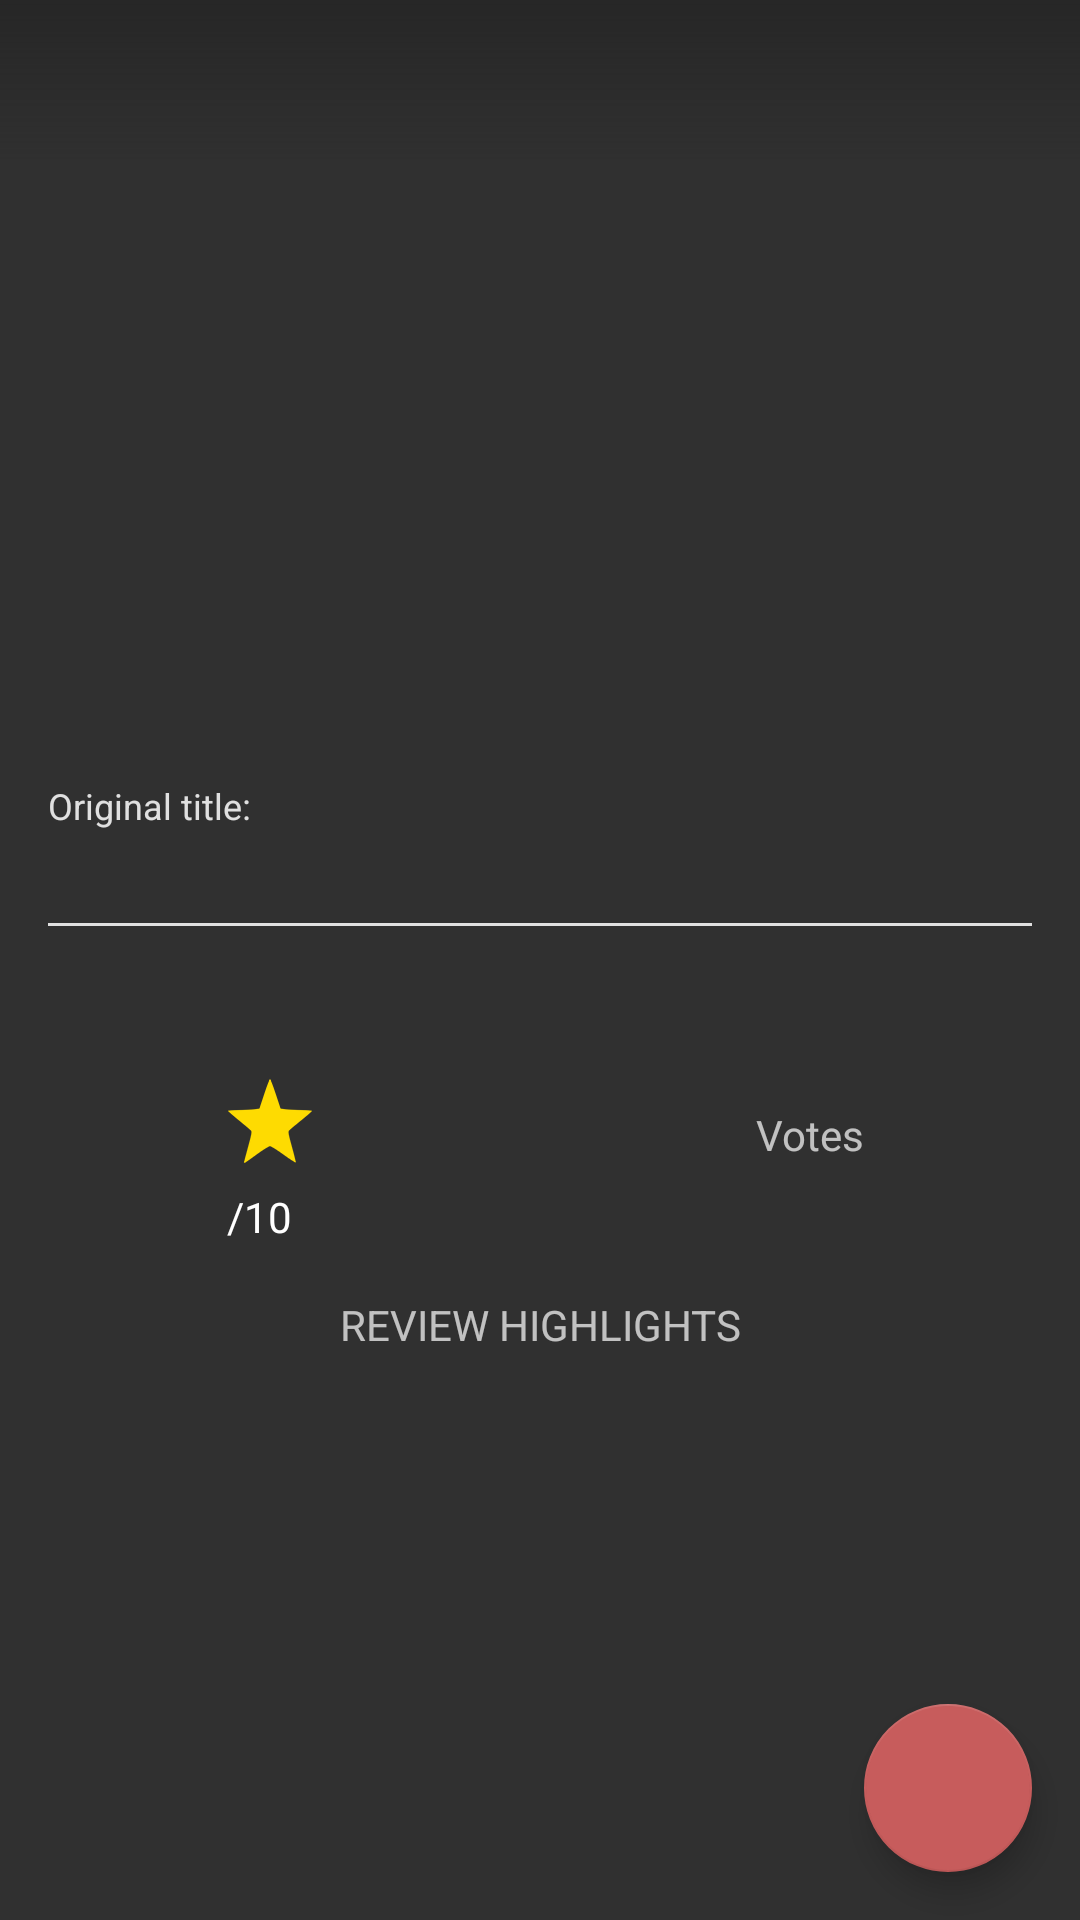

Where to tap for icons on this 1080×1920 app screen, as (x,y):
Rating: (270,1121)
